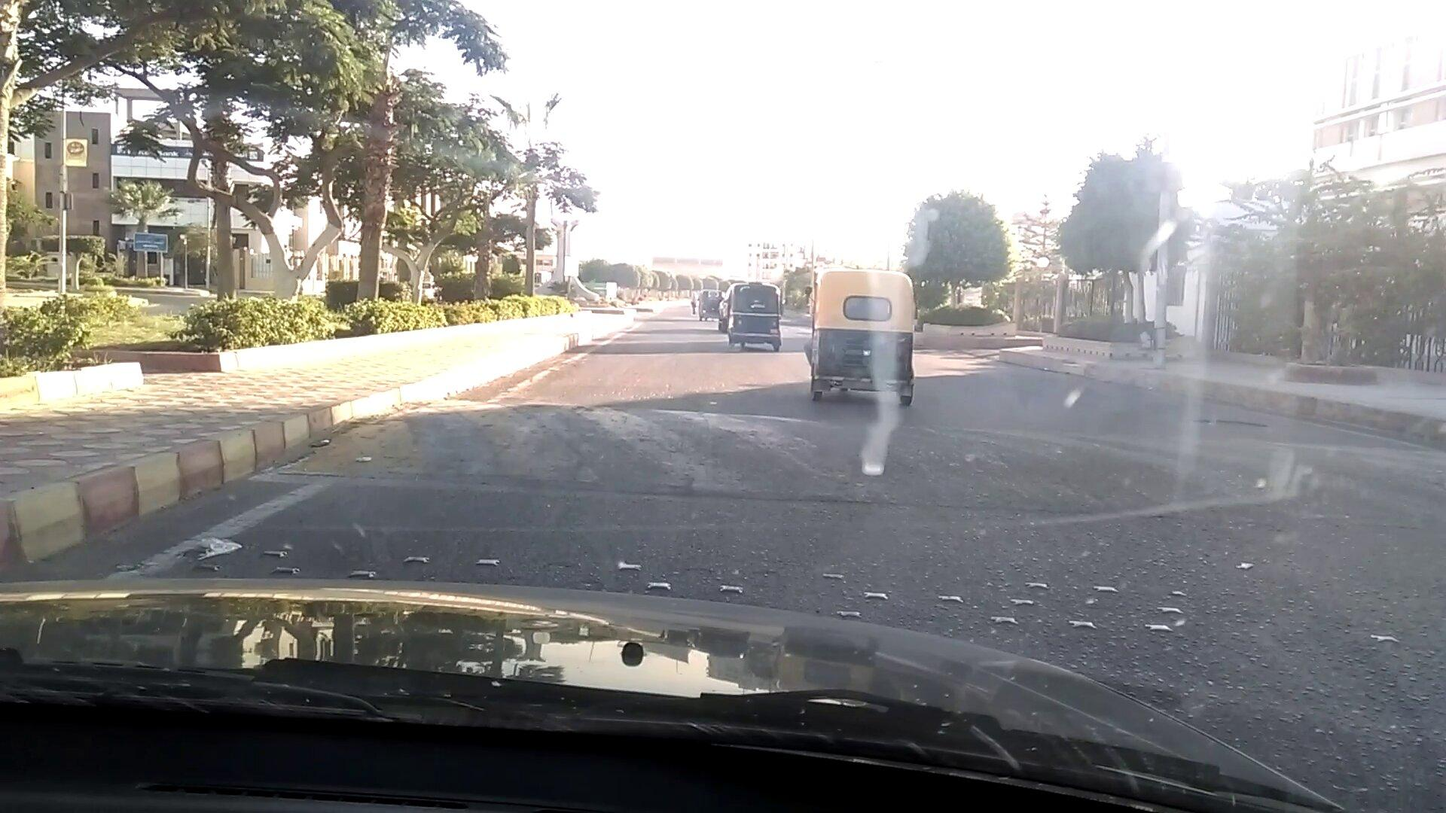Bump: (380, 388, 1446, 523)
